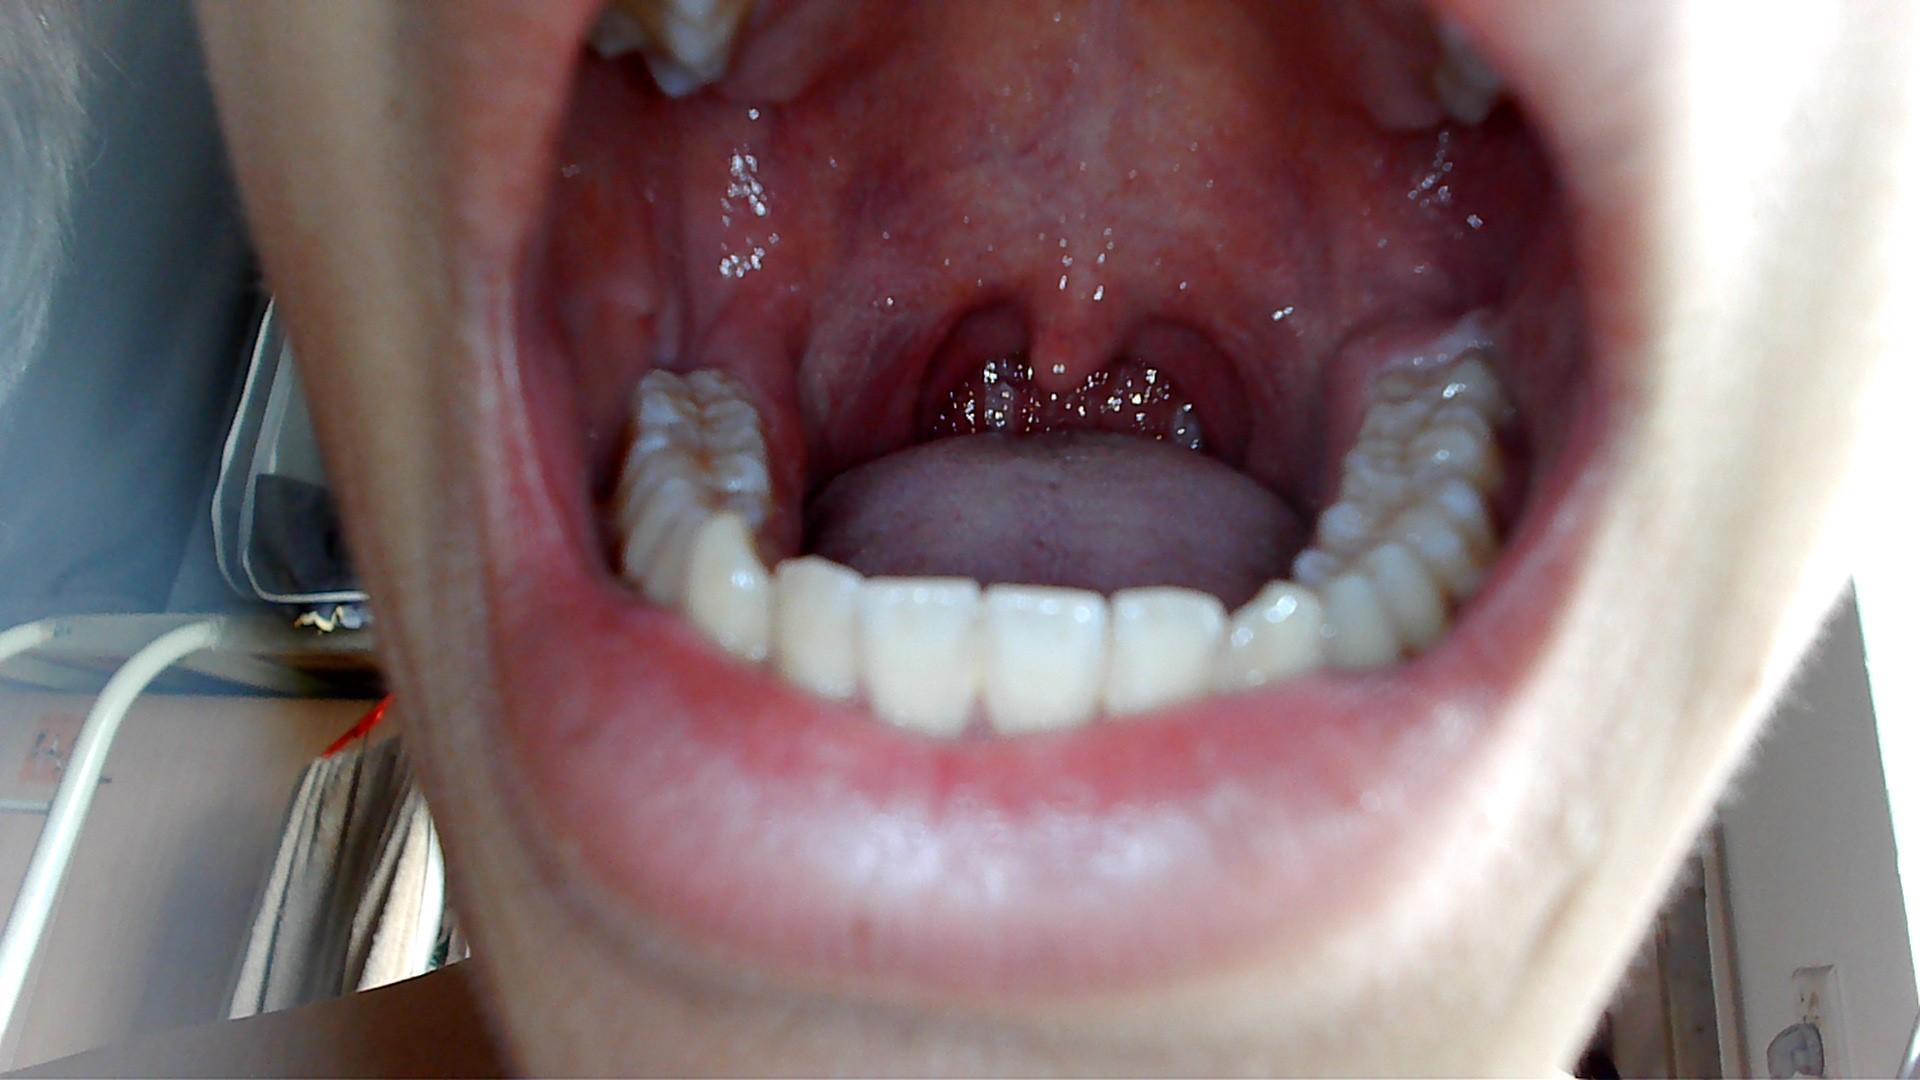throat: (1174, 291, 1278, 472), (886, 272, 994, 433)
